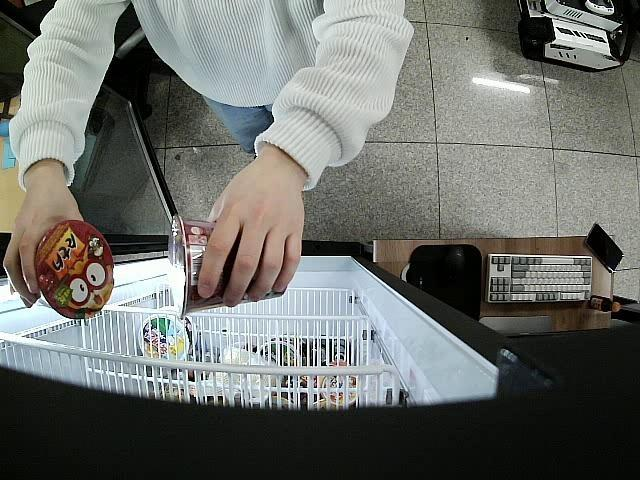06_nuguri_S: (168, 212, 290, 321), (34, 219, 114, 320)
